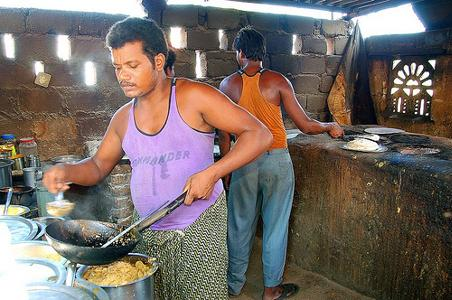person: (43, 18, 270, 300)
